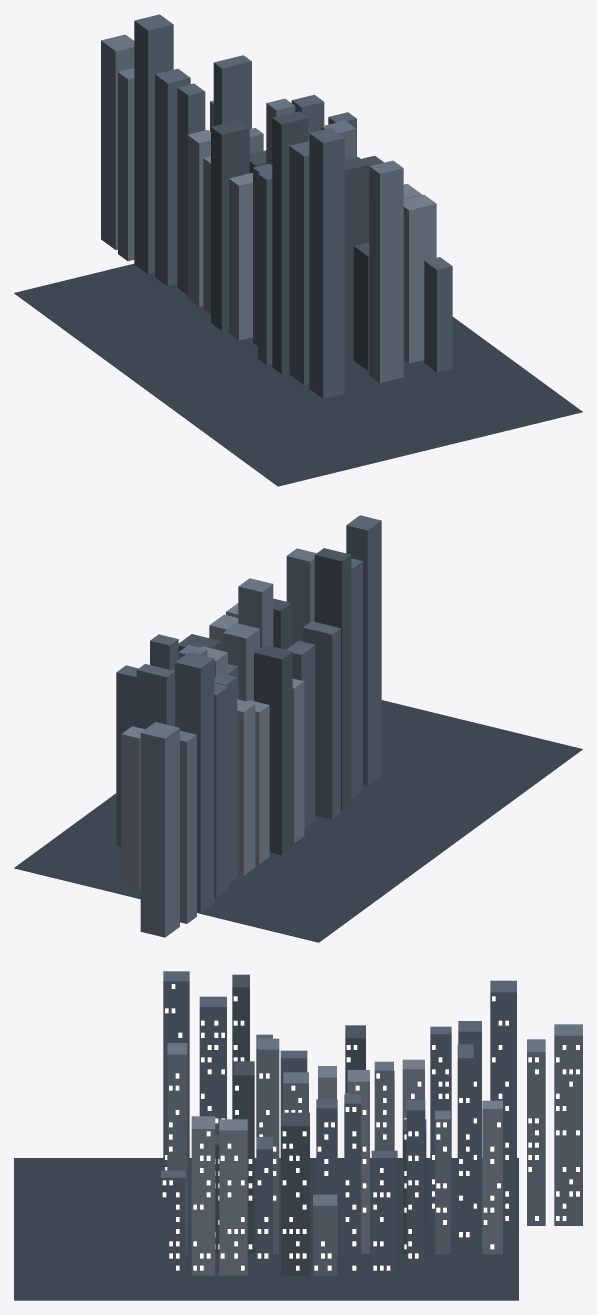
Rendered from skyline.fbx.
3 views of the same model, one above another, from view 1: azimuth 30°, elevation 25°; view 2: azimuth 150°, elevation 25°; view 3: azimuth 270°, elevation 25° (orthographic). The views are drawn at different scales.
Visible parts, largest first — view 1: Buildings, Ground; view 2: Buildings, Ground; view 3: Buildings, Ground, CityWindows.
Boxes of the visible parts, left/top/right/bottom form: Buildings: left=101, top=14, right=452, bottom=398; Ground: left=14, top=263, right=582, bottom=486; Buildings: left=116, top=515, right=381, bottom=937; Ground: left=14, top=700, right=582, bottom=942; Buildings: left=161, top=971, right=582, bottom=1275; Ground: left=14, top=1158, right=518, bottom=1300; CityWindows: left=162, top=984, right=579, bottom=1270.
Bounding box in the file's own units: 80 × 64.21 × 135.
